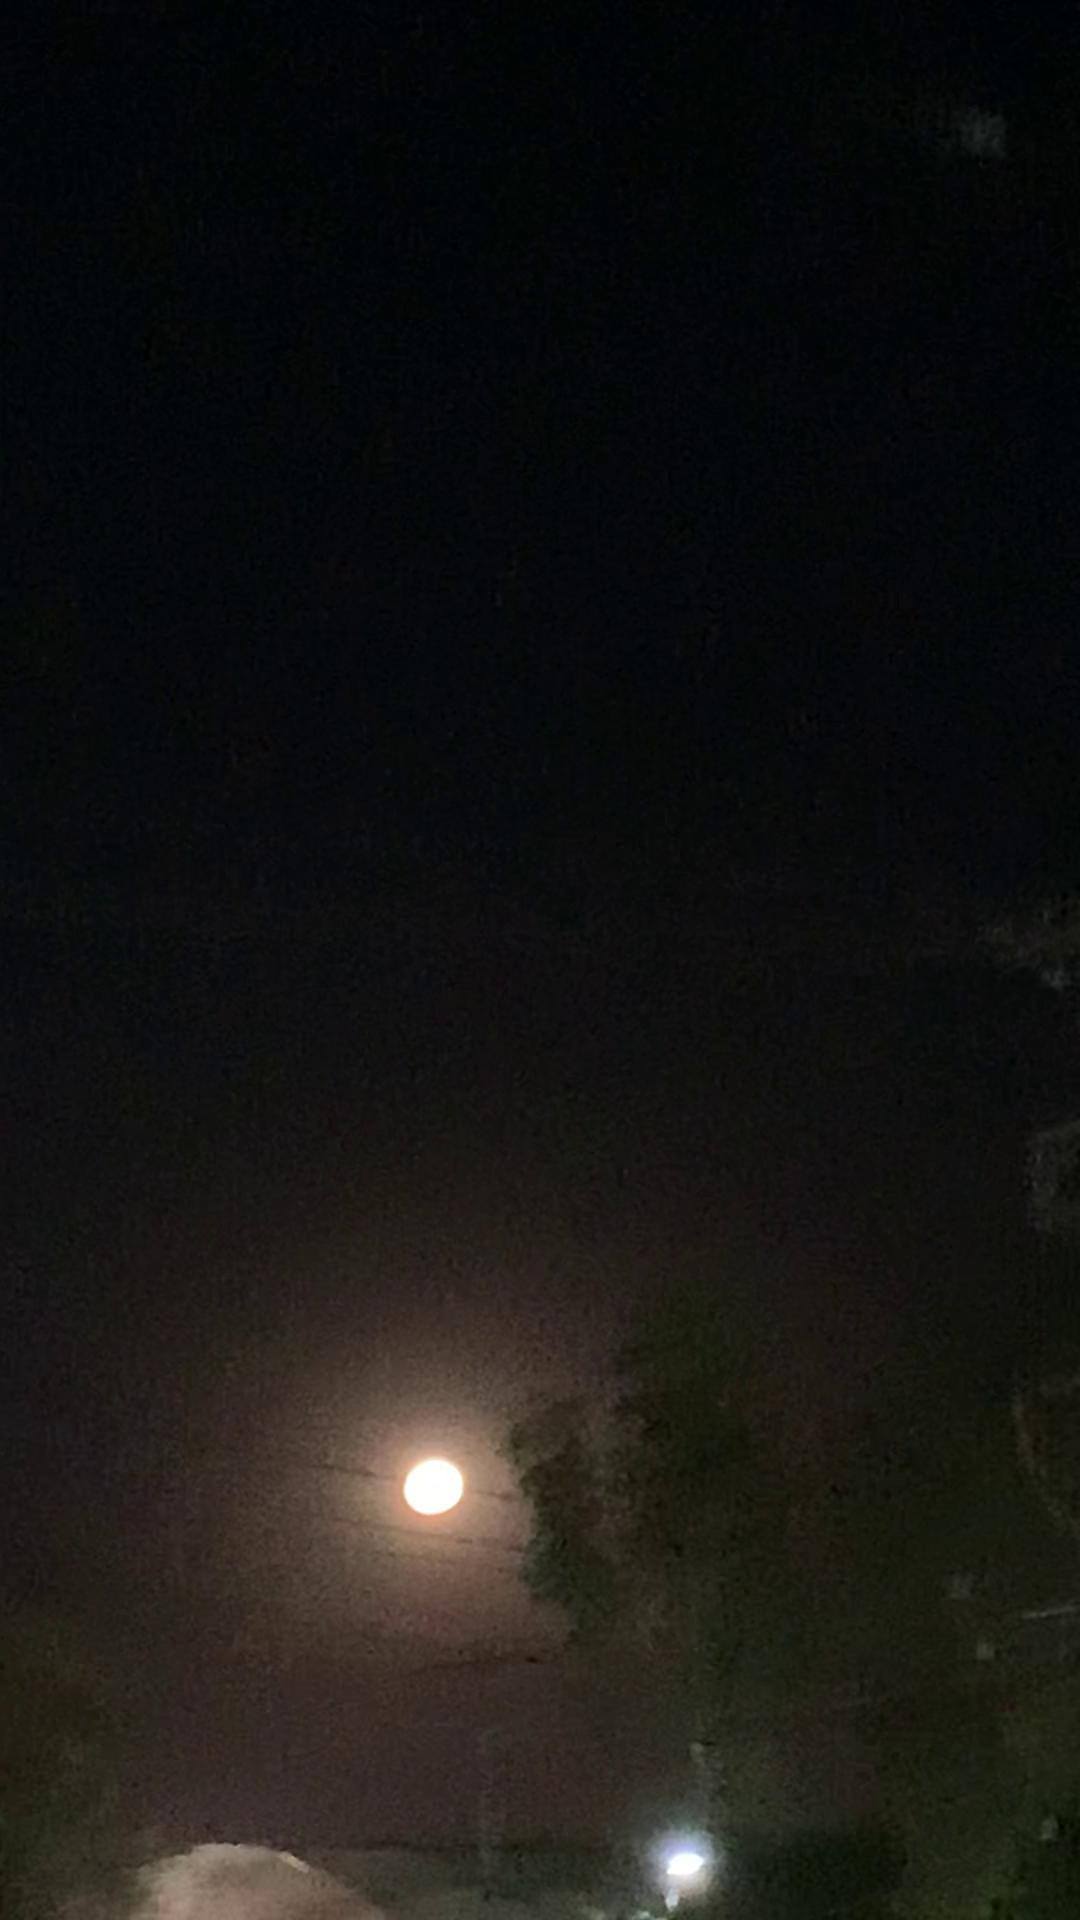moon: (368, 1458, 458, 1534)
